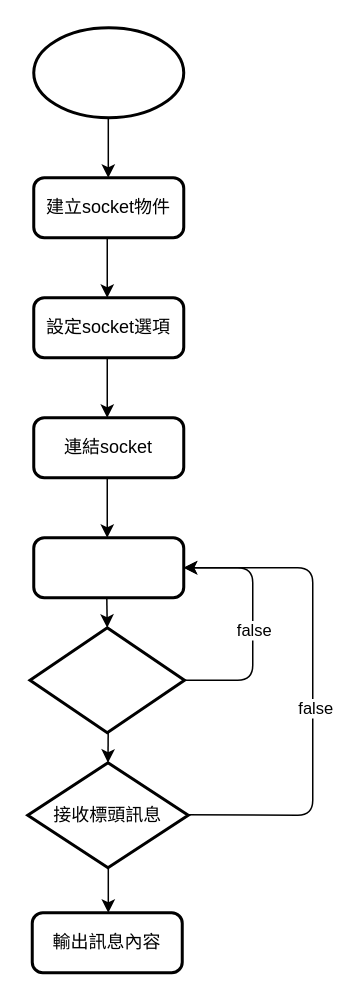
Some shapes in this 359 by 999 pixel diagram are drawn without their labels. The centre of each missing label's shape, as x and y in pixels:
"監聽連線" belongs at pixel 108 567.
"讀到使用者ip 跟socket" belongs at pixel 106 680.
"開始" belongs at pixel 108 72.
